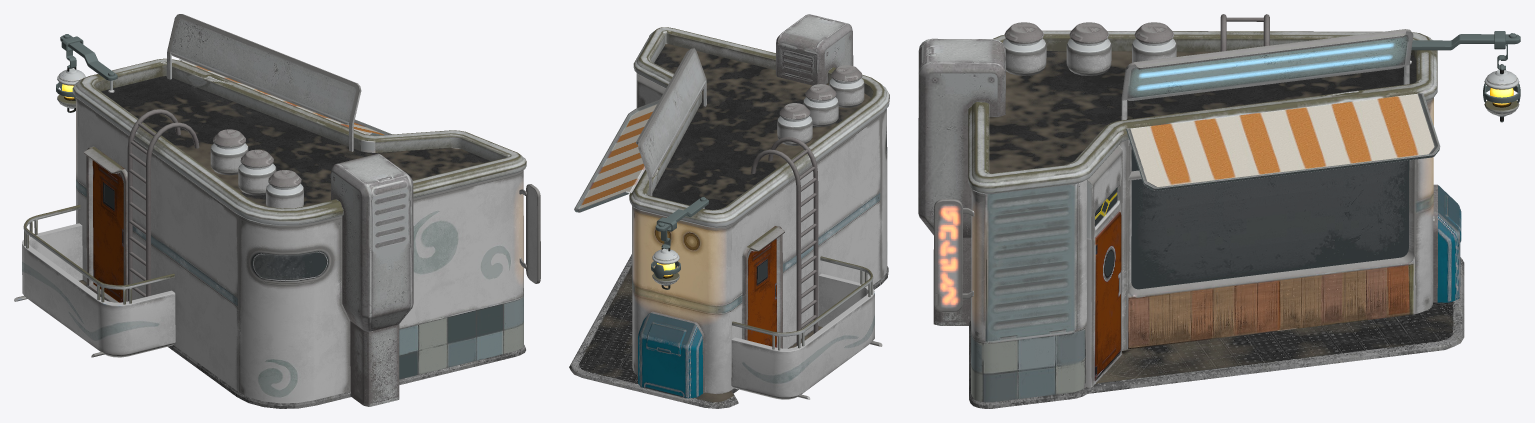
File: cornet_hut.glb
3 renders of one model, left to right at view 1: azimuth 30°, elevation 25°; view 2: azimuth 150°, elevation 25°; view 3: azimuth 270°, elevation 25°, orthographic. The views are drawn at different scales.
Visible parts, largest first — view 1: CornerHut; view 2: CornerHut; view 3: CornerHut.
Part boxes in pixels (x1,y1,x2,y2): CornerHut: [14, 14, 540, 408]; CornerHut: [569, 14, 889, 408]; CornerHut: [918, 14, 1520, 408].
Bounding box in the file's own units: 5.49 × 3.79 × 7.18.
Materials: 1 (1 with a texture image).
